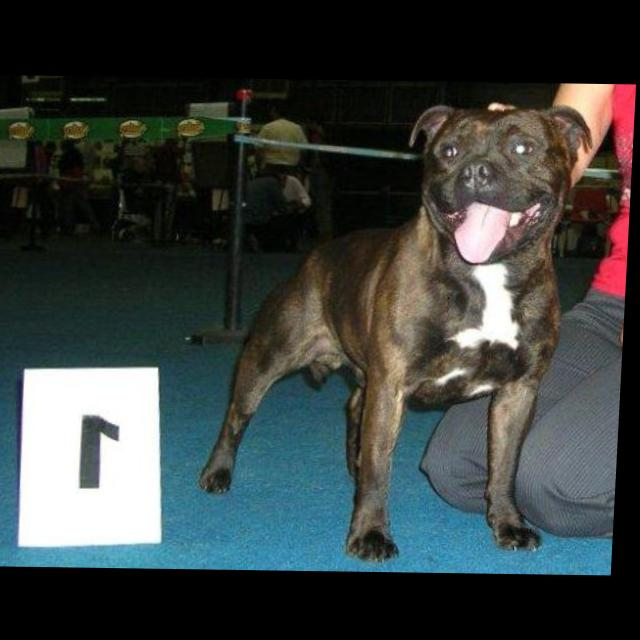staffford: (202, 97, 599, 565)
